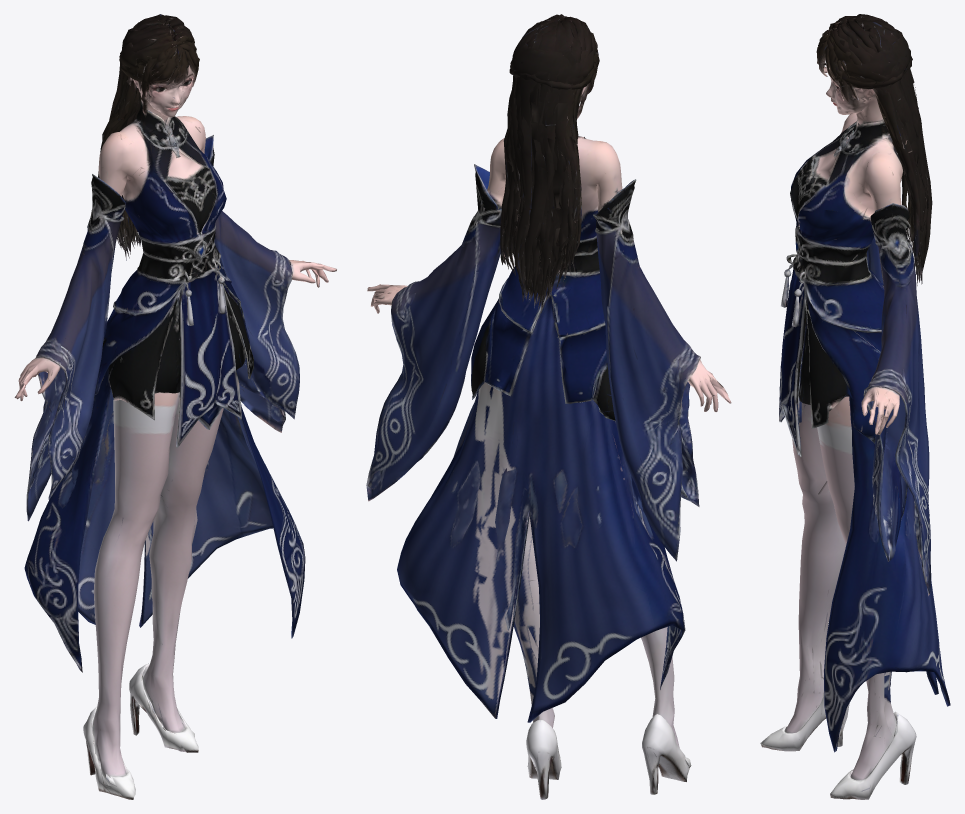
The model's file is Mizu78.glb.
The picture shows the model from 3 angles, left to right: view 1: azimuth 30°, elevation 25°; view 2: azimuth 150°, elevation 25°; view 3: azimuth 270°, elevation 25°; orthographic projection. The views are drawn at different scales.
Size of the model in its own units: 0.458 by 0.9507 by 0.2134.
1 material, 1 textured.
